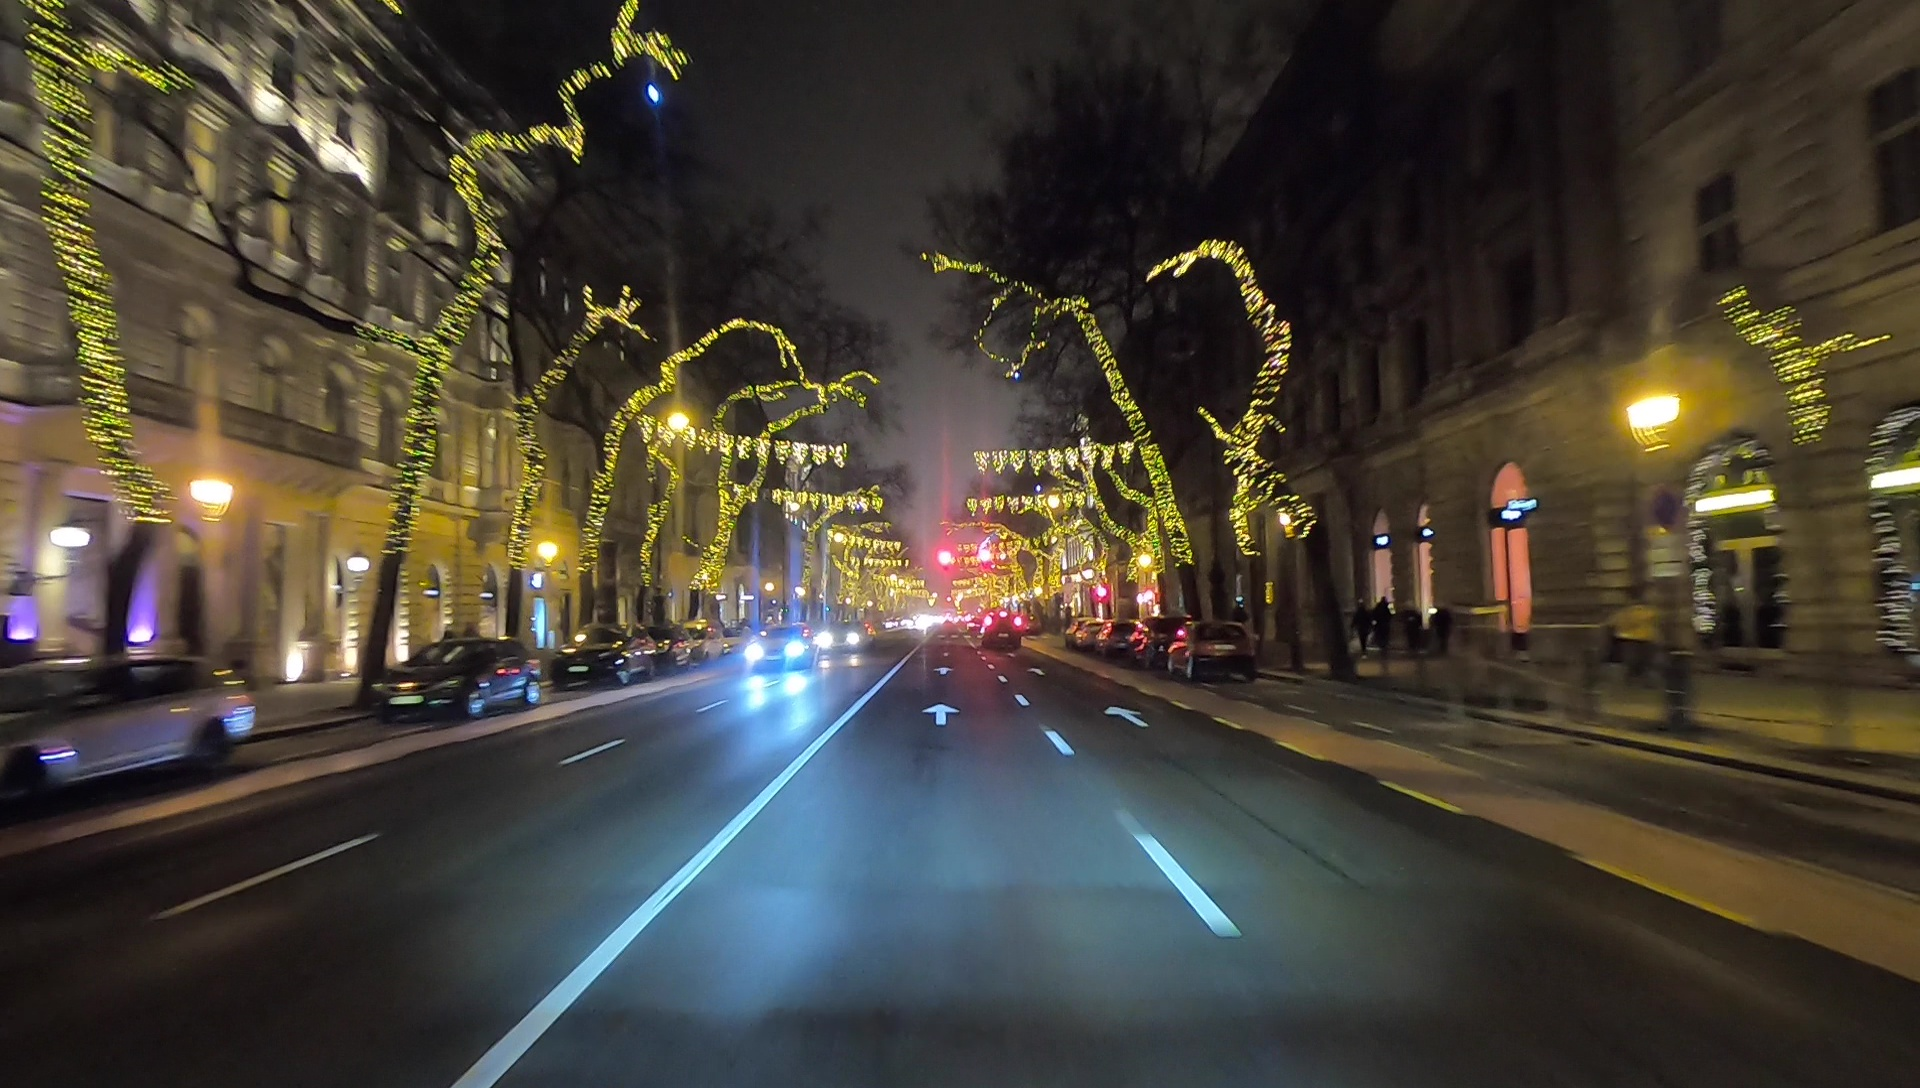person: (1610, 589, 1659, 685), (1427, 600, 1452, 660), (1372, 595, 1395, 653), (1352, 596, 1371, 655), (1402, 602, 1422, 654)
